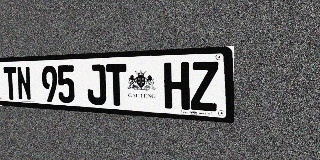5: (57, 65, 75, 103)
9: (41, 65, 58, 102)
H: (164, 62, 190, 110)
J: (86, 64, 106, 105)
N: (16, 66, 32, 101)
T: (106, 64, 127, 106), (3, 67, 18, 100)
Z: (190, 61, 219, 112)
